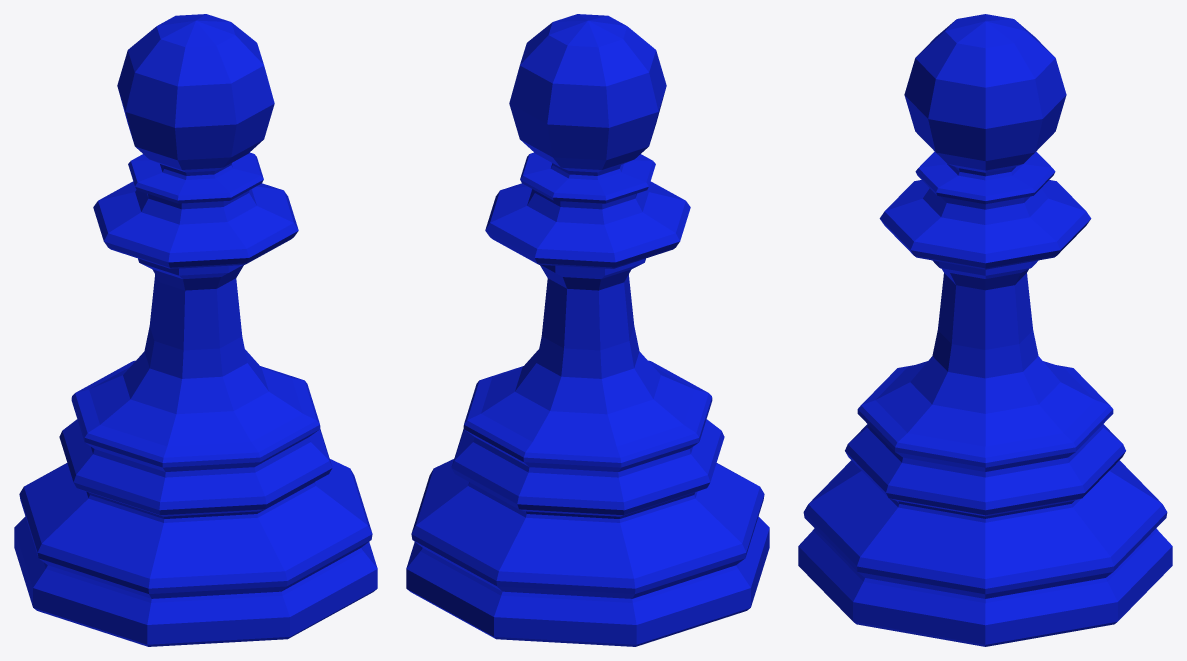
File: PLAYER_BLUE_pawn.glb
3 renders of one model, left to right at view 1: azimuth 30°, elevation 25°; view 2: azimuth 150°, elevation 25°; view 3: azimuth 270°, elevation 25°, orthographic.
Visible parts, largest first — view 1: Pawn.001_1; view 2: Pawn.001_1; view 3: Pawn.001_1.
Boxes of the visible parts, x1,y1,x2,y2 form: Pawn.001_1: [14, 14, 377, 646]; Pawn.001_1: [406, 14, 769, 646]; Pawn.001_1: [798, 14, 1172, 646].
Bounding box in the file's own units: 0.3 × 0.485 × 0.3.
